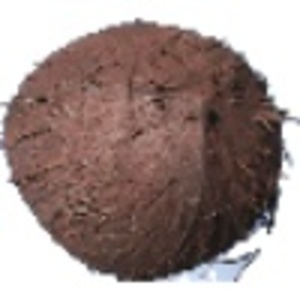coco: (1, 20, 300, 283)
